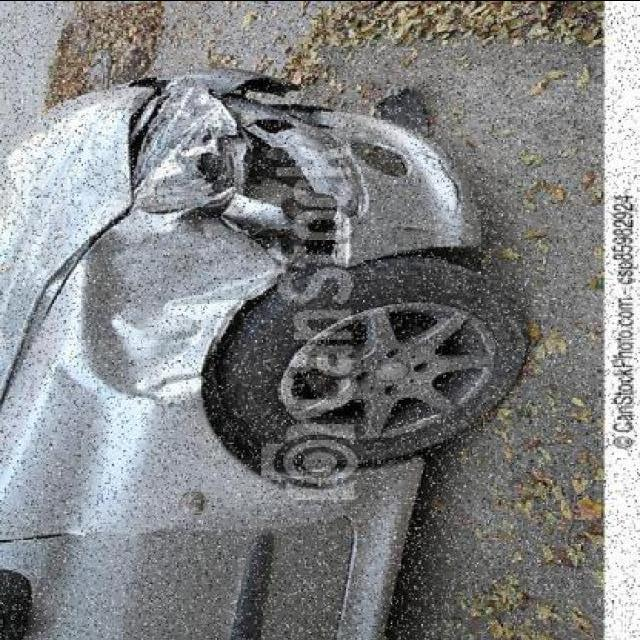Headlight-Damage: (120, 68, 244, 235)
fender-dent: (58, 244, 334, 543)
front-bumper-dent: (226, 75, 488, 286)
